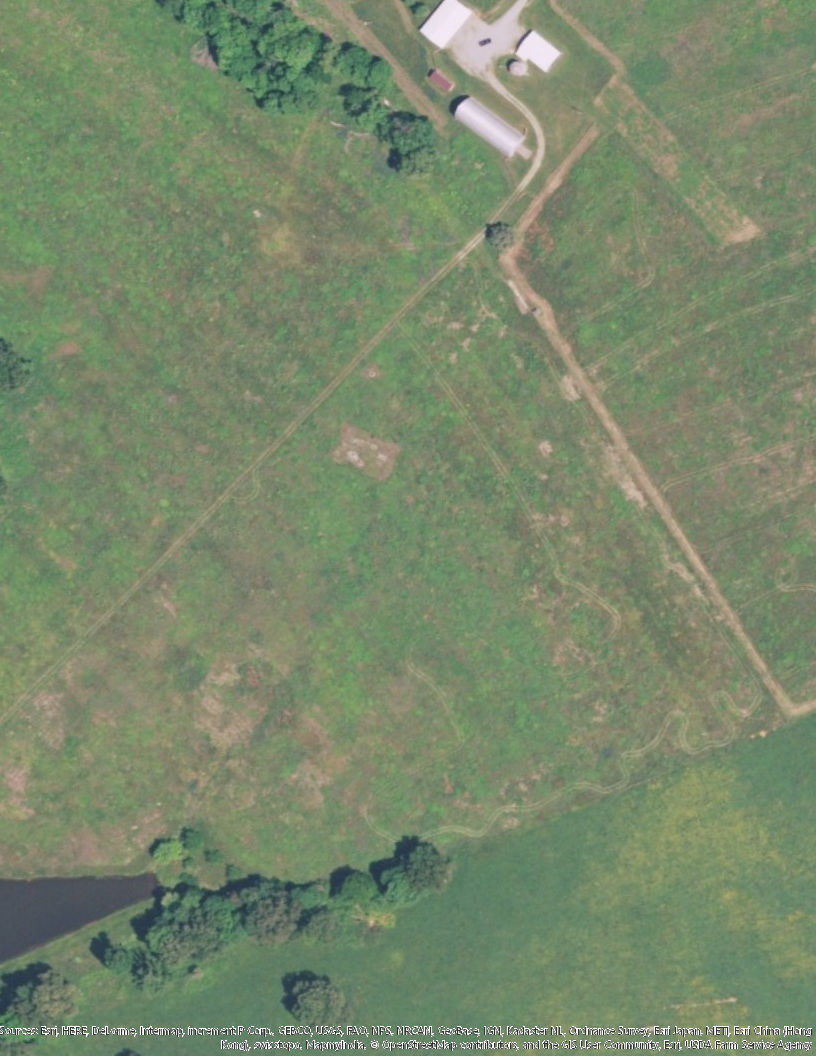cafo: (451, 89, 530, 163), (418, 1, 479, 57), (512, 30, 562, 73)
